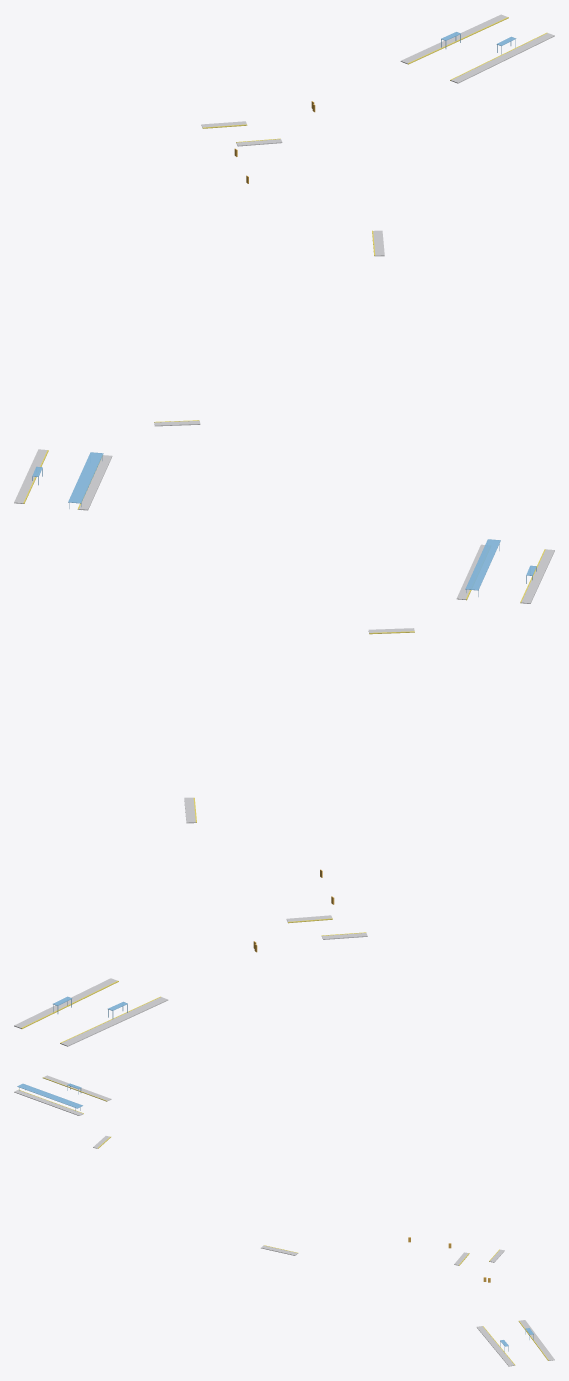
Rendered from 8579900-bern-buempliz-post.glb.
3 views of the same model, one above another, from view 1: azimuth 30°, elevation 25°; view 2: azimuth 210°, elevation 25°; view 3: azimuth 270°, elevation 25° (orthographic). The views are drawn at different scales.
Parts seen in each view (by area): view 1: platform_body@0, shelter@0, boarding_edge@0; view 2: platform_body@0, shelter@0, boarding_edge@0; view 3: platform_body@0, shelter@0, boarding_edge@0.
Part boxes in pixels (<box>): platform_body@0: <box>14,14,554,510</box>; shelter@0: <box>32,32,516,508</box>; boarding_edge@0: <box>23,17,547,509</box>; platform_body@0: <box>14,544,554,1046</box>; shelter@0: <box>53,539,536,1018</box>; boarding_edge@0: <box>21,549,545,1043</box>; platform_body@0: <box>14,1075,554,1366</box>; shelter@0: <box>17,1083,533,1351</box>; boarding_edge@0: <box>18,1077,548,1365</box>.
Size of the model in its own units: 307 by 3.35 by 244.
